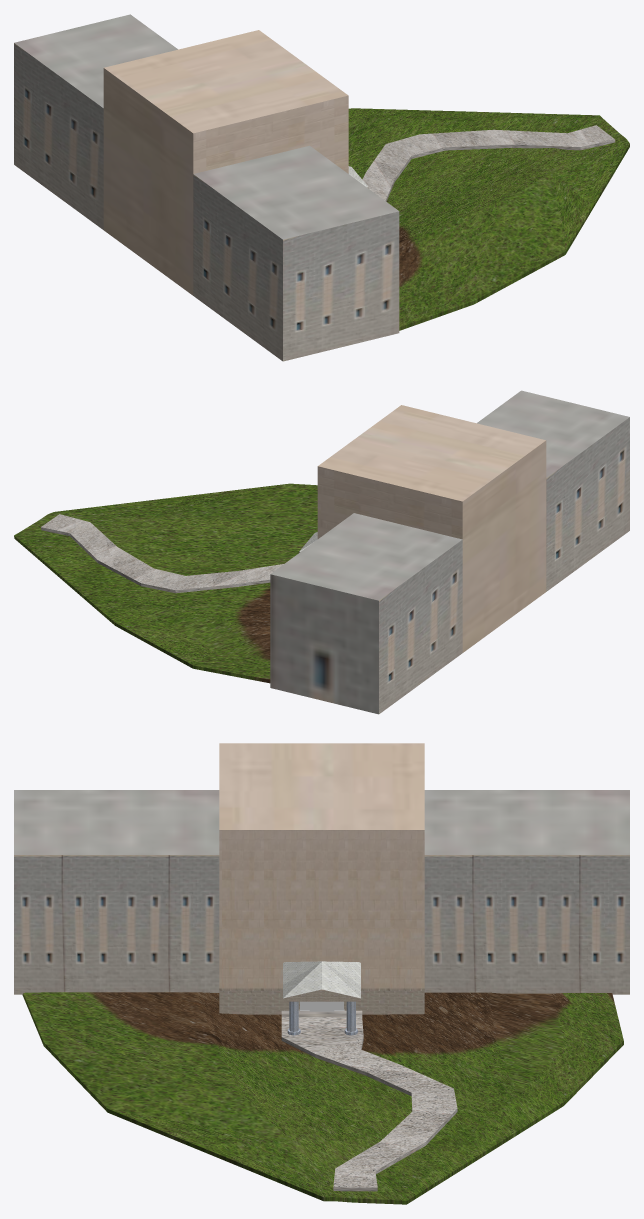
The model's file is facilityExterior.fbx.
3 renders of one model, top to bottom at view 1: azimuth 30°, elevation 25°; view 2: azimuth 150°, elevation 25°; view 3: azimuth 270°, elevation 25°, orthographic. The views are drawn at different scales.
Parts seen in each view (by area): view 1: Cube, Cube.002, Plane, Cube.001, Cube.009; view 2: Plane, Cube, Cube.001, Cube.002, Cube.009; view 3: Plane, Cube, Cube.001, Cube.002, Cube.009, Cube.003.
Part boxes in pixels (left/top/right/bottom): Cube: left=103, top=30, right=348, bottom=295; Cube.002: left=193, top=145, right=399, bottom=361; Plane: left=348, top=108, right=629, bottom=330; Cube.001: left=14, top=14, right=177, bottom=229; Cube.009: left=362, top=125, right=615, bottom=201; Plane: left=14, top=483, right=317, bottom=683; Cube: left=317, top=405, right=546, bottom=652; Cube.001: left=270, top=513, right=462, bottom=714; Cube.002: left=477, top=390, right=629, bottom=591; Cube.009: left=41, top=514, right=283, bottom=593; Plane: left=22, top=992, right=623, bottom=1204; Cube: left=219, top=743, right=424, bottom=1014; Cube.001: left=424, top=790, right=629, bottom=994; Cube.002: left=14, top=790, right=219, bottom=994; Cube.009: left=281, top=1010, right=457, bottom=1191; Cube.003: left=283, top=961, right=360, bottom=1001.
Bounding box in the file's own units: 6290 × 2074 × 6000.
